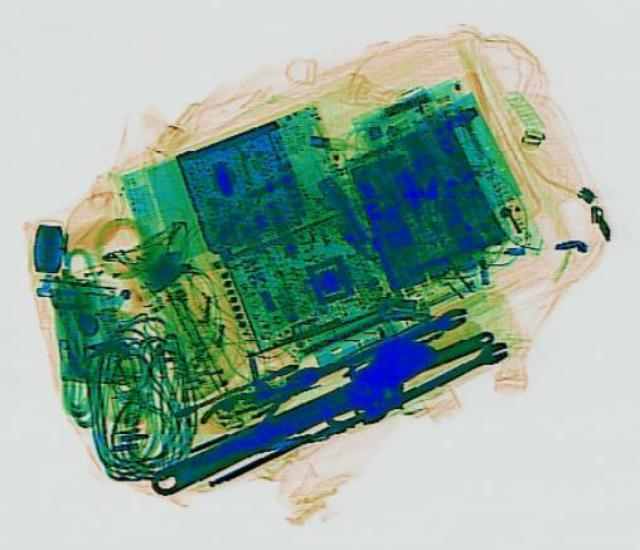Pliers: (194, 353, 328, 446)
Wrench: (144, 366, 398, 495), (357, 335, 511, 420), (310, 300, 472, 379)
